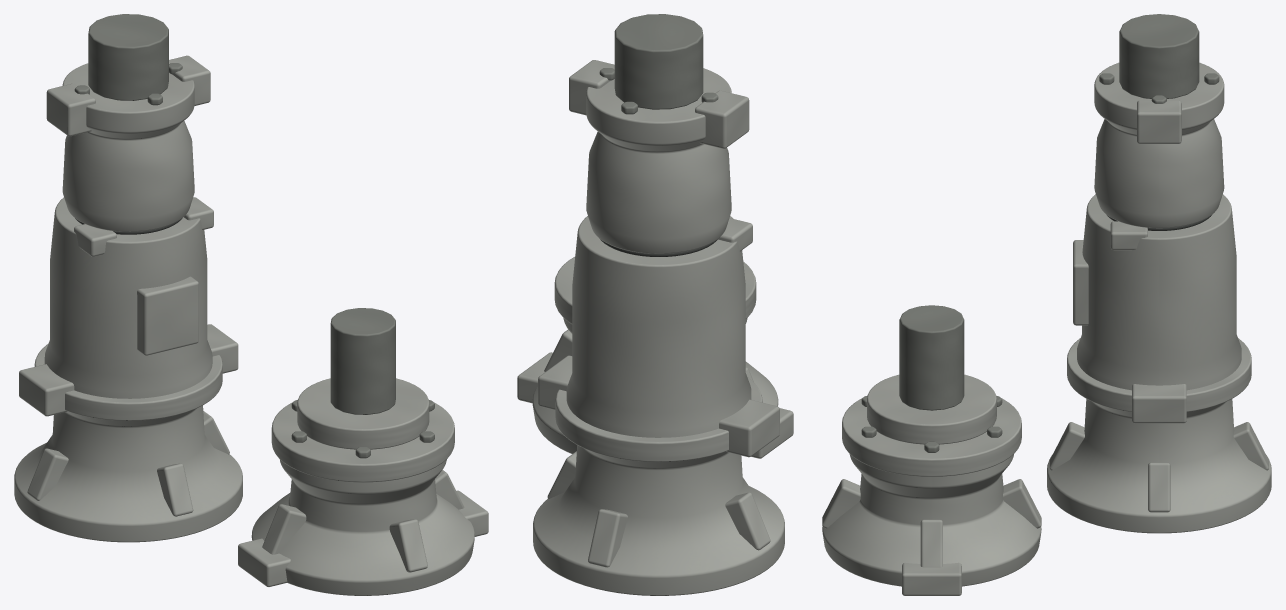
The model's file is brake_valves_photo_detailed.glb.
3 views of the same model, side by side, from view 1: azimuth 30°, elevation 25°; view 2: azimuth 150°, elevation 25°; view 3: azimuth 270°, elevation 25° (orthographic). The views are drawn at different scales.
Visible parts, largest first — view 1: Tall_Lower_Casting, Short_Lower_Casting, Tall_Upper_Casting, Short_Flange, Short_Exposed_Spindle, Tall_Exposed_Spindle, Short_Cover, Tall_Front_Cast_Boss, Tall_Lower_Flange, Tall_Lower_Flange_Ear_1, Tall_Cap_Ear_1, Short_Mounting_Lug_-0.042 (+8 smaller); view 2: Tall_Lower_Casting, Tall_Upper_Casting, Tall_Exposed_Spindle, Tall_Lower_Flange, Tall_Lower_Flange_Ear_1, Tall_Cap_Ear_1, Short_Lower_Casting, Tall_Foot_Rib_1, Short_Flange, Tall_Foot_Rib_2, Tall_Cap_Ear_0, Tall_Lower_Flange_Ear_0 (+6 smaller); view 3: Tall_Lower_Casting, Short_Lower_Casting, Tall_Upper_Casting, Short_Flange, Short_Exposed_Spindle, Tall_Exposed_Spindle, Short_Cover, Tall_Lower_Flange, Tall_Lower_Flange_Ear_0, Tall_Cap_Ear_0, Short_Mounting_Lug_0.042, Tall_Front_Cast_Boss (+7 smaller).
Part boxes in pixels (bbox=[...]): Tall_Lower_Casting: bbox=[14, 197, 242, 542]; Short_Lower_Casting: bbox=[251, 459, 474, 595]; Tall_Upper_Casting: bbox=[62, 63, 194, 231]; Short_Flange: bbox=[271, 402, 454, 482]; Short_Exposed_Spindle: bbox=[330, 308, 395, 414]; Tall_Exposed_Spindle: bbox=[88, 14, 168, 100]; Short_Cover: bbox=[297, 378, 429, 449]; Tall_Front_Cast_Boss: bbox=[137, 276, 198, 355]; Tall_Lower_Flange: bbox=[34, 344, 222, 420]; Tall_Lower_Flange_Ear_1: bbox=[19, 364, 74, 416]; Tall_Cap_Ear_1: bbox=[46, 83, 95, 136]; Short_Mounting_Lug_-0.042: bbox=[238, 538, 290, 586]; Tall_Lower_Casting: bbox=[533, 216, 784, 595]; Tall_Upper_Casting: bbox=[586, 68, 731, 253]; Tall_Exposed_Spindle: bbox=[614, 14, 703, 109]; Tall_Lower_Flange: bbox=[555, 377, 762, 461]; Tall_Lower_Flange_Ear_1: bbox=[719, 399, 779, 457]; Tall_Cap_Ear_1: bbox=[695, 90, 749, 148]; Short_Lower_Casting: bbox=[532, 318, 778, 453]; Tall_Foot_Rib_1: bbox=[588, 509, 627, 567]; Short_Flange: bbox=[554, 256, 756, 323]; Tall_Foot_Rib_2: bbox=[725, 492, 770, 550]; Tall_Cap_Ear_0: bbox=[569, 60, 614, 115]; Tall_Lower_Flange_Ear_0: bbox=[538, 355, 572, 409]; Tall_Lower_Casting: bbox=[1047, 194, 1271, 533]; Short_Lower_Casting: bbox=[822, 454, 1041, 586]; Tall_Upper_Casting: bbox=[1094, 62, 1224, 228]; Short_Flange: bbox=[842, 398, 1021, 476]; Short_Exposed_Spindle: bbox=[899, 305, 964, 410]; Tall_Exposed_Spindle: bbox=[1119, 14, 1199, 98]; Short_Cover: bbox=[867, 374, 996, 444]; Tall_Lower_Flange: bbox=[1067, 338, 1251, 411]; Tall_Lower_Flange_Ear_0: bbox=[1132, 384, 1186, 423]; Tall_Cap_Ear_0: bbox=[1137, 100, 1181, 143]; Short_Mounting_Lug_0.042: bbox=[902, 562, 961, 595]; Tall_Front_Cast_Boss: bbox=[1073, 240, 1088, 325].
Bounding box in the file's own units: 0.1495 × 0.2015 × 0.1799.
Materials: 3 (2 with a texture image).
